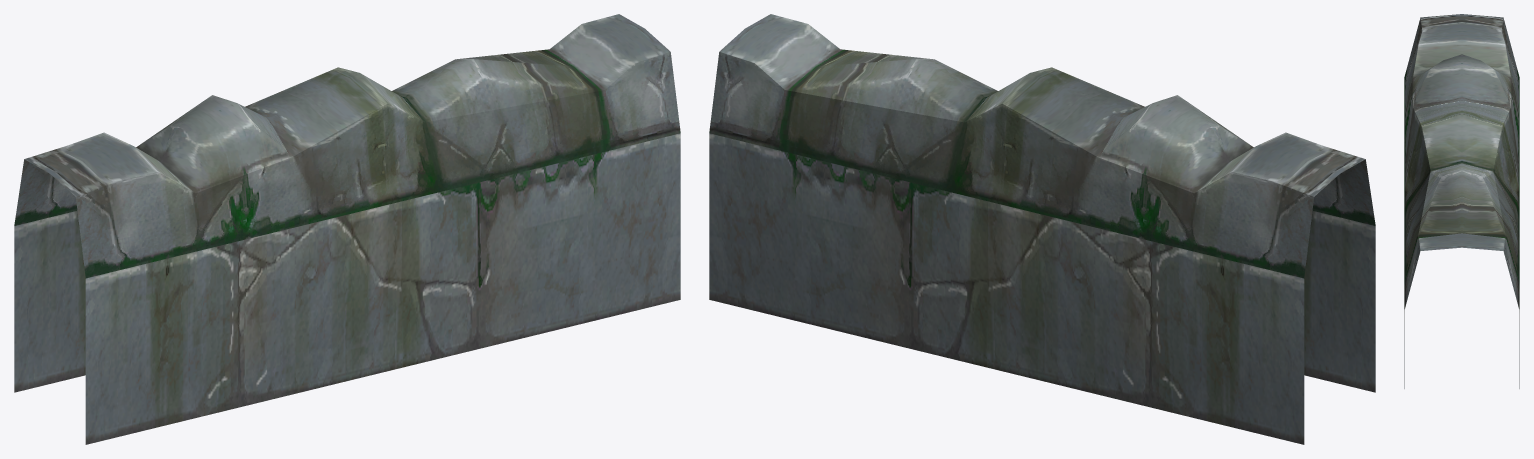
File: stemple_quarter_straight_shadow_05.fbx
3 views of the same model, side by side, from view 1: azimuth 30°, elevation 25°; view 2: azimuth 150°, elevation 25°; view 3: azimuth 270°, elevation 25° (orthographic). The views are drawn at different scales.
Parts seen in each view (by area): view 1: stemple_quarter_straight_shadow_05-0; view 2: stemple_quarter_straight_shadow_05-0; view 3: stemple_quarter_straight_shadow_05-0.
Boxes of the visible parts, x1,y1,x2,y2 form: stemple_quarter_straight_shadow_05-0: (14,14,680,444); stemple_quarter_straight_shadow_05-0: (709,14,1375,444); stemple_quarter_straight_shadow_05-0: (1404,14,1519,388).
Size of the model in its own units: 4 by 1.74 by 0.8328.
